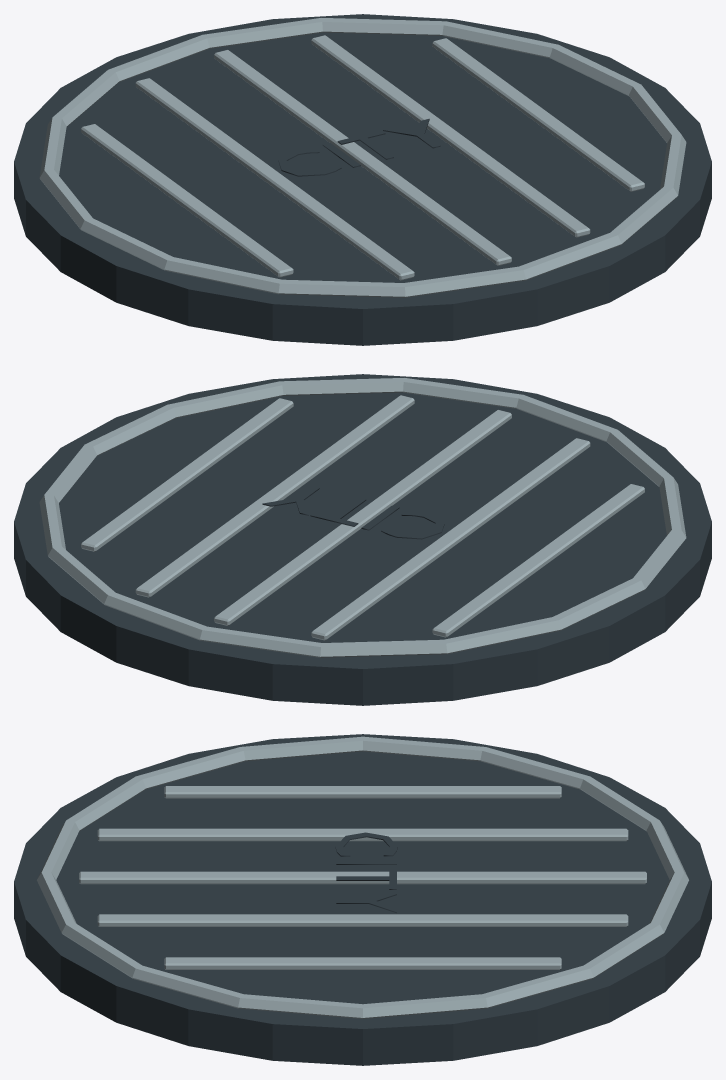
File: Manhole_Cover.glb
3 views of the same model, one above another, from view 1: azimuth 30°, elevation 25°; view 2: azimuth 150°, elevation 25°; view 3: azimuth 270°, elevation 25° (orthographic).
Parts seen in each view (by area): view 1: Manhole_Cover; view 2: Manhole_Cover; view 3: Manhole_Cover.
Part boxes in pixels (x1=…): Manhole_Cover: x1=14, y1=14, x2=711, y2=345; Manhole_Cover: x1=14, y1=374, x2=711, y2=705; Manhole_Cover: x1=14, y1=734, x2=711, y2=1065.
Bounding box in the file's own units: 0.86 × 0.0637 × 0.86.
